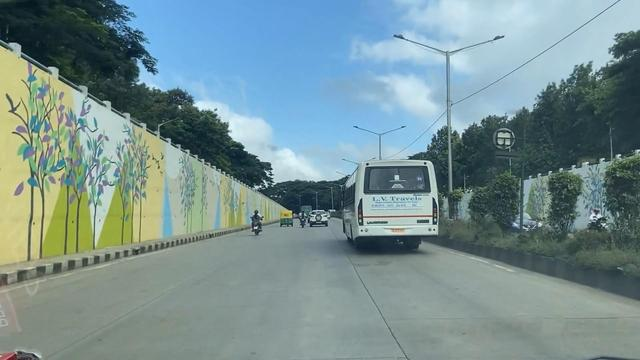HMV: (341, 164, 438, 246)
LMV: (251, 210, 262, 236)
